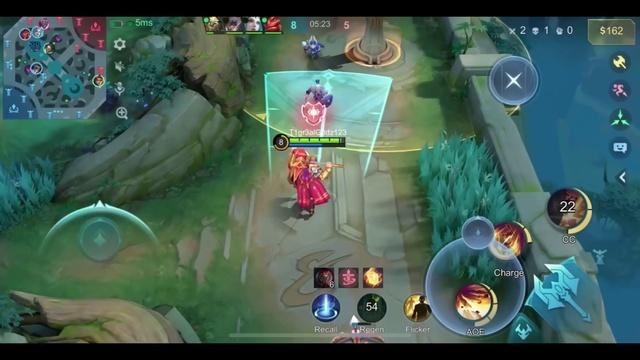Adc_Aliado: (21, 27, 29, 41)
Adc_Enemigo: (38, 18, 50, 29)
Arbusto: (419, 134, 517, 258), (0, 157, 55, 230), (450, 251, 504, 297)
Esbirro_Enemigo: (306, 79, 332, 107), (301, 35, 323, 58)
Exp_Aliado: (91, 74, 106, 86)
HP_Heroe_Principal: (289, 138, 344, 144)
Hechizo_Batalla: (403, 294, 430, 321)
Jungla_Aliado: (29, 62, 44, 76)
Mana: (290, 143, 347, 148)
Mid_Aliado: (32, 26, 44, 37)
Minimapa: (4, 18, 108, 119)
Roamer_Aliado: (43, 42, 56, 56)
Skill1: (454, 284, 495, 321)
Skill2: (488, 222, 531, 259)
Tigreal: (287, 148, 341, 216)
Torre_Enemiga: (345, 17, 401, 66)
